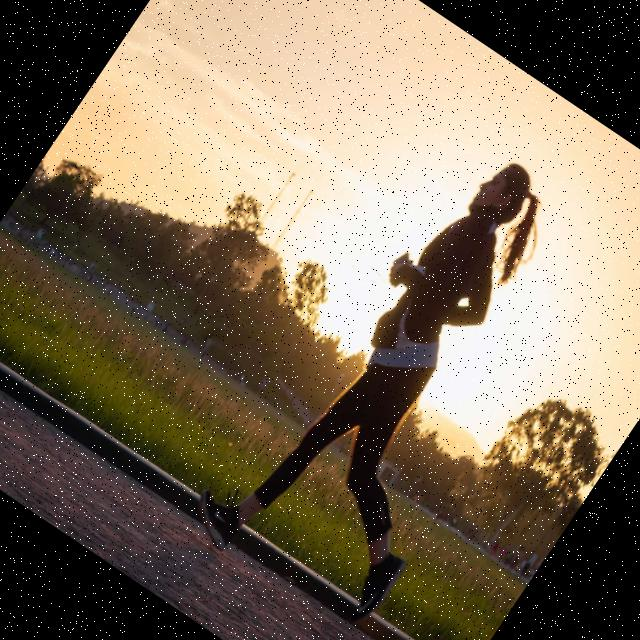Person: (180, 121, 628, 640)
